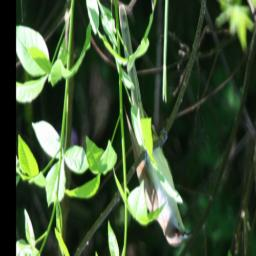Cuckoo: (118, 5, 194, 247)
